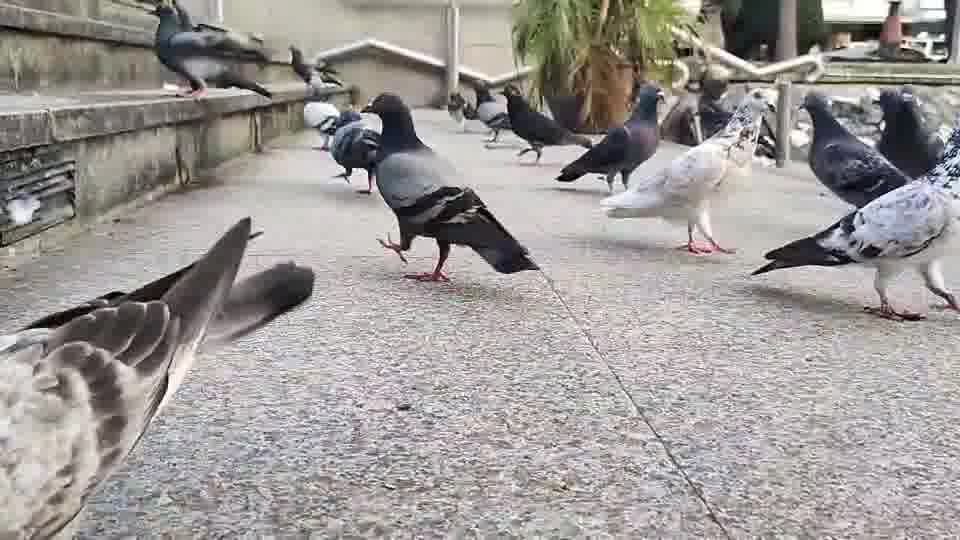Pigeon: (0, 214, 315, 538), (749, 123, 958, 322), (358, 91, 541, 283), (598, 89, 775, 256), (797, 90, 910, 210), (144, 0, 273, 102), (554, 82, 666, 193), (870, 85, 951, 180), (499, 81, 592, 162), (317, 109, 381, 194), (286, 43, 343, 88)
